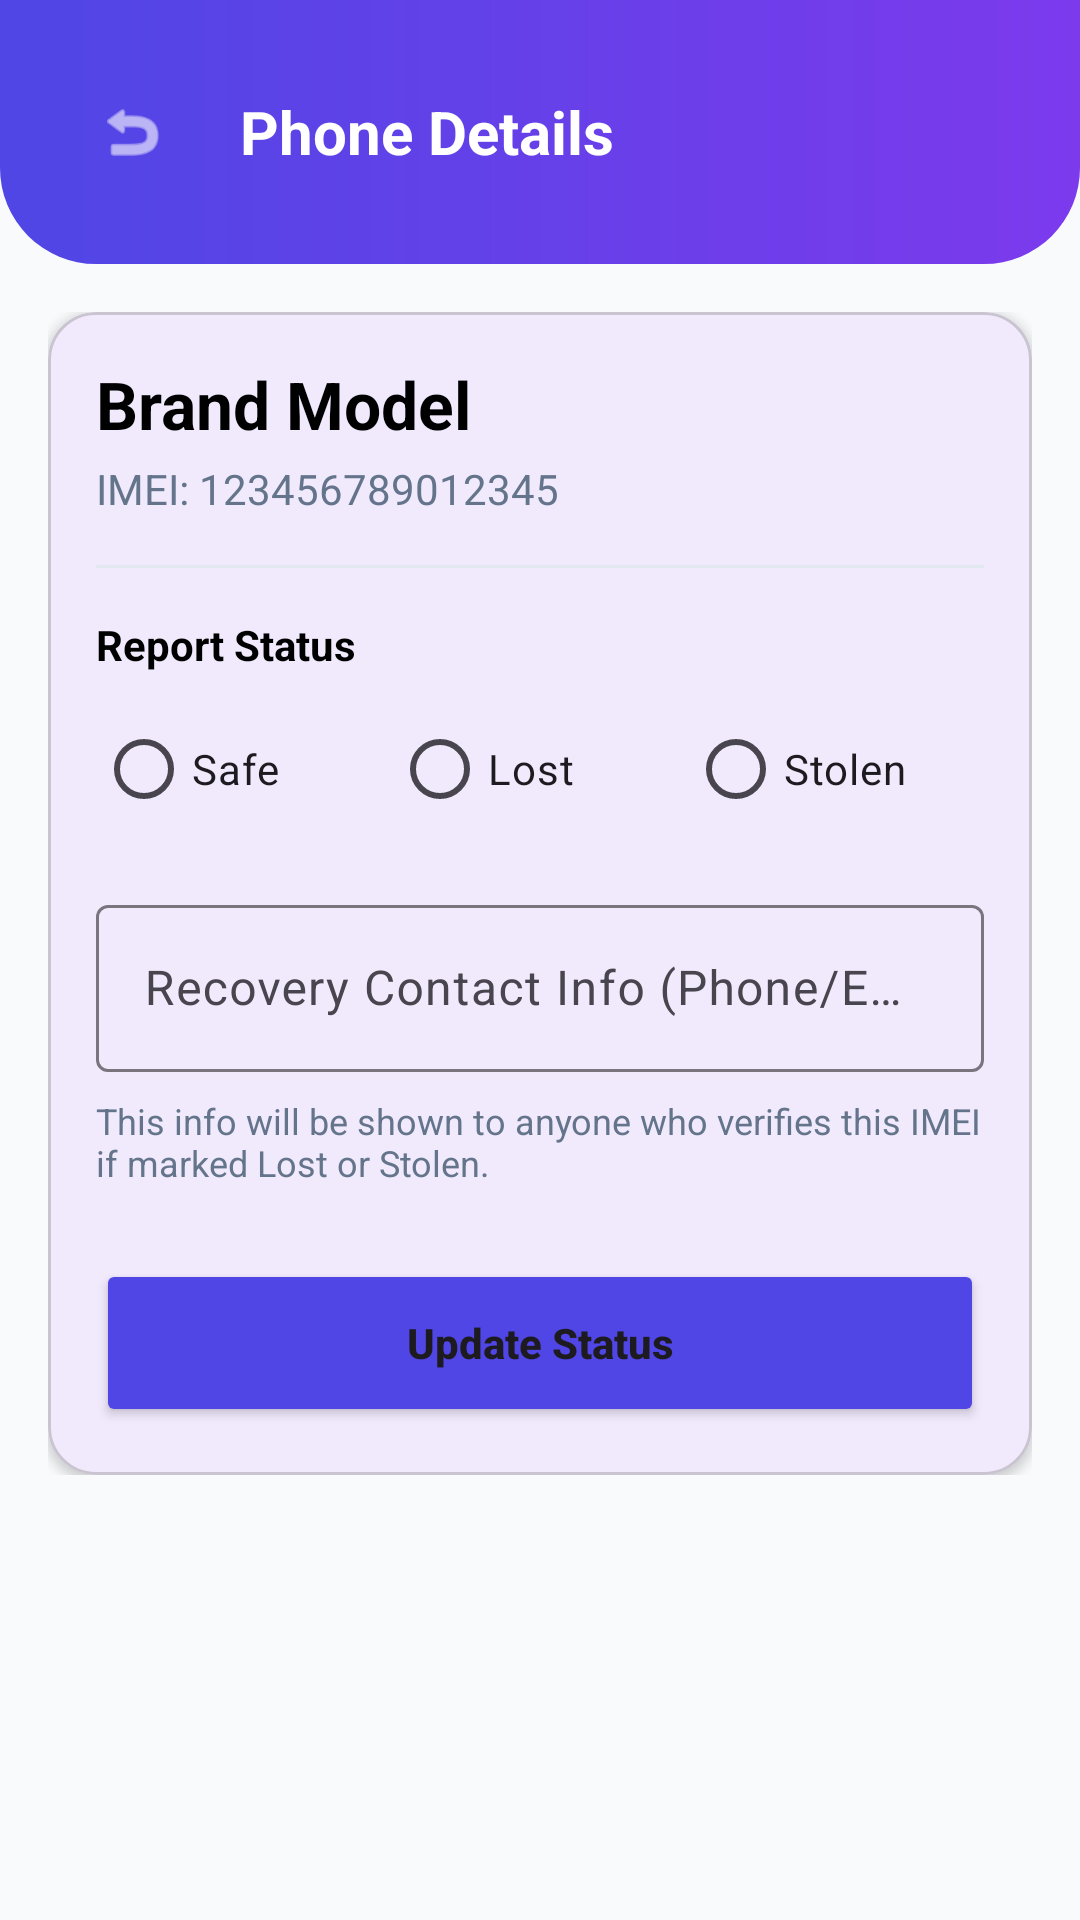

Screen size 1080x1920. Icon name, then its box in pixels as (x1, y1, x2, y2):
revert: (107, 109, 159, 156)
